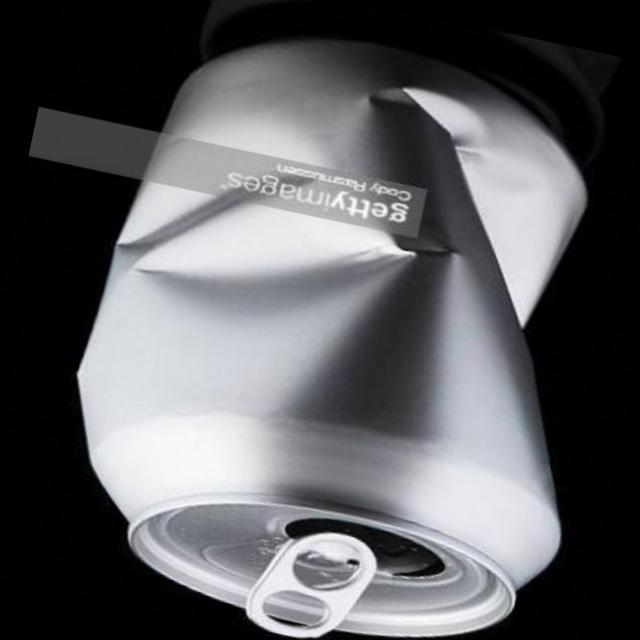metal: (81, 42, 587, 638)
